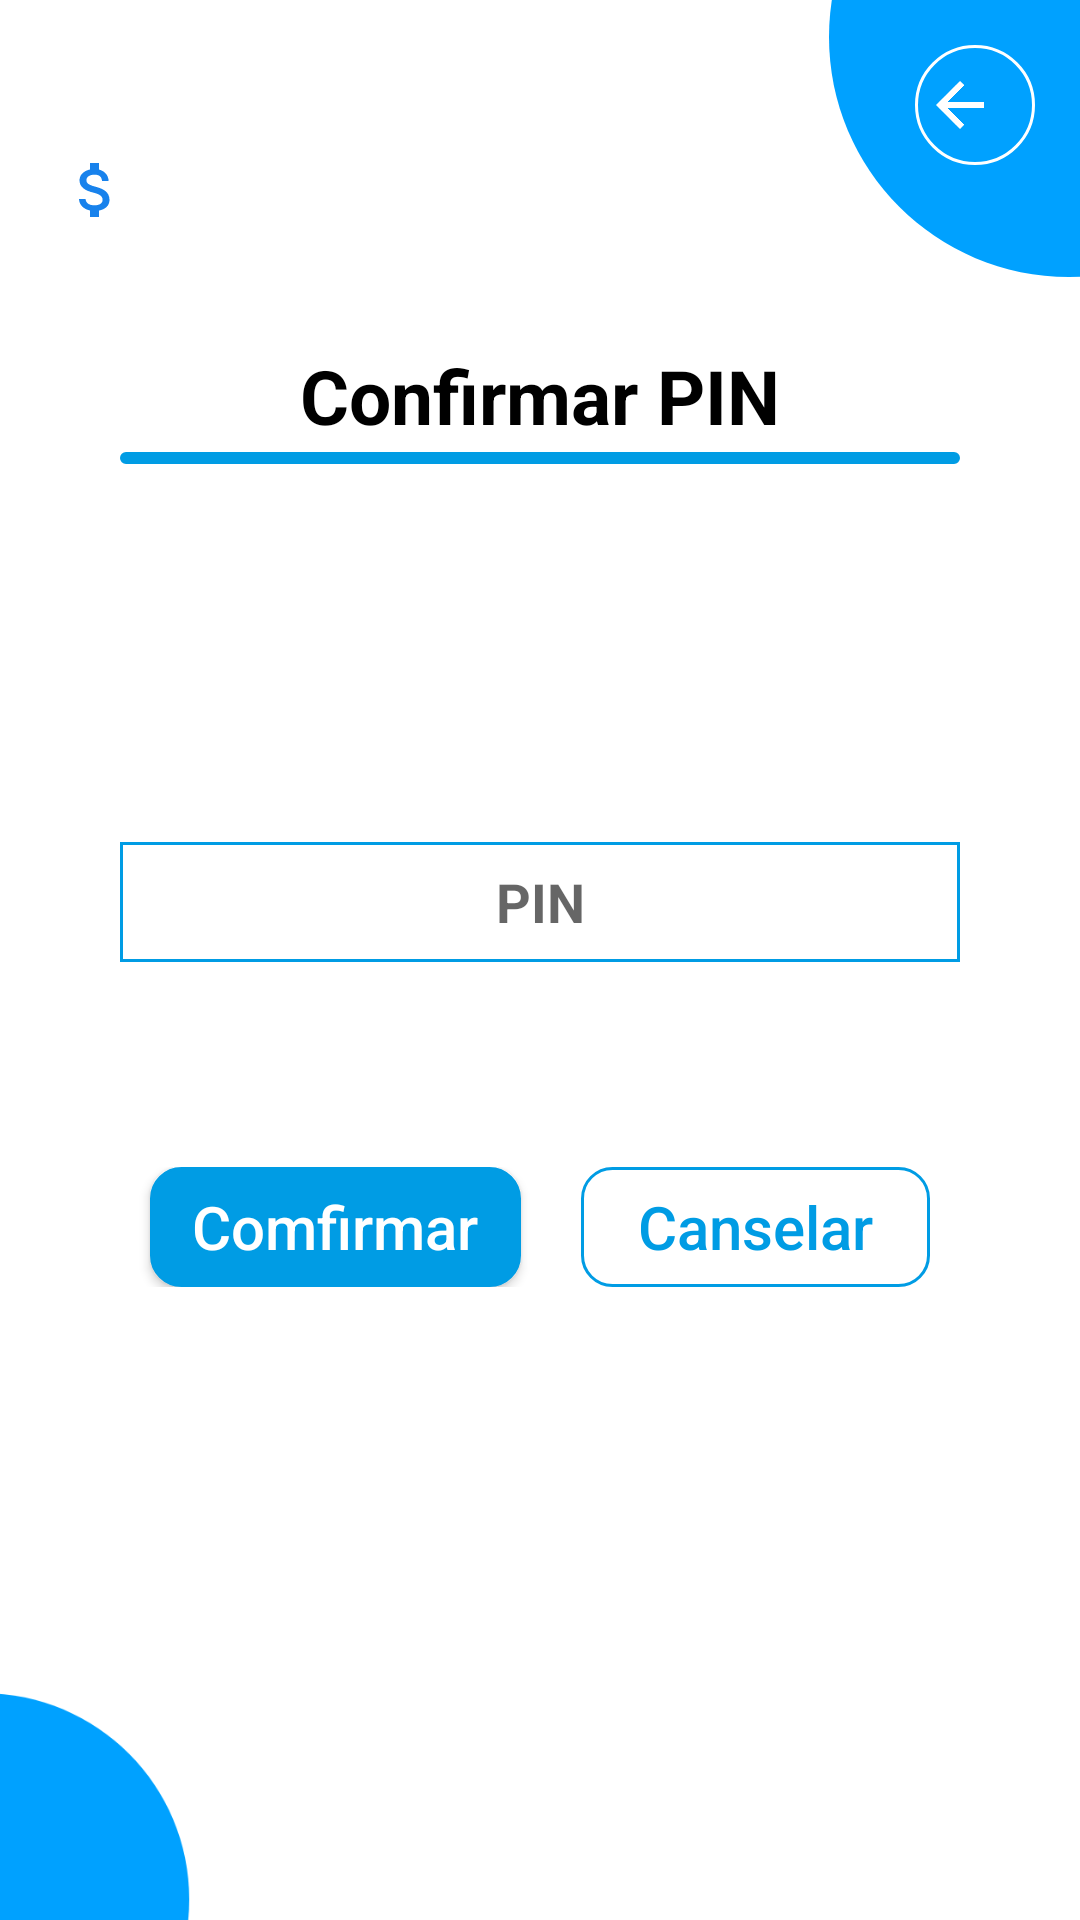

Locate icon controls on the screen. Image size 1080*1920, boxes as Rect(x1, y1, x2, y2).
back: Rect(915, 45, 1035, 165)
